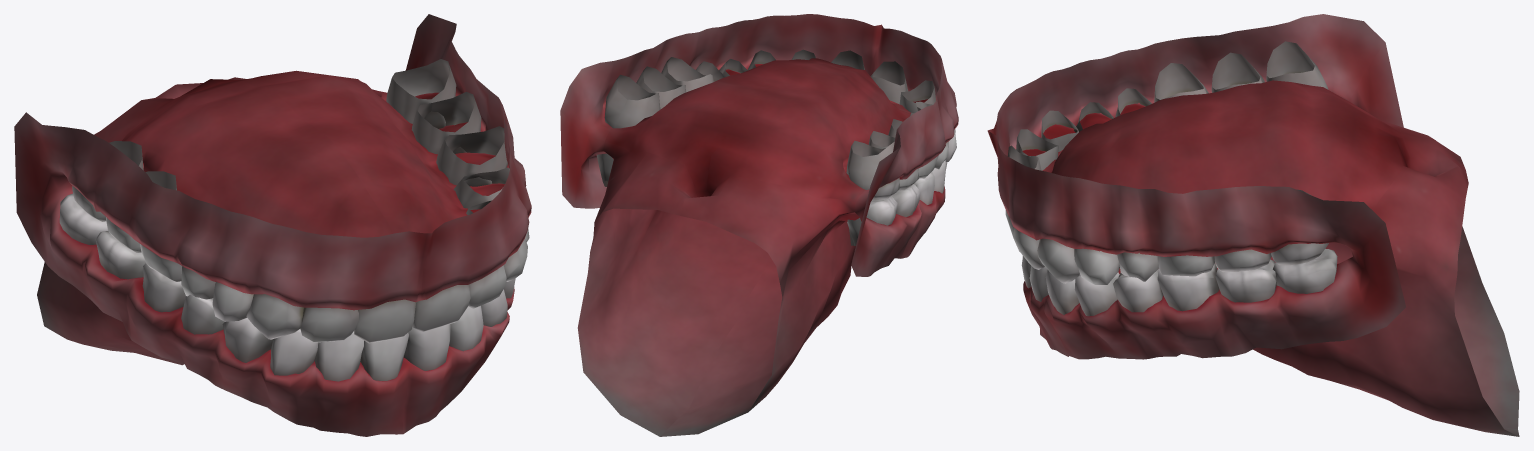
The model's file is teeth.obj.
3 renders of one model, left to right at view 1: azimuth 30°, elevation 25°; view 2: azimuth 150°, elevation 25°; view 3: azimuth 270°, elevation 25°, orthographic. The views are drawn at different scales.
Parts seen in each view (by area): view 1: teeth_baseMesh; view 2: teeth_baseMesh; view 3: teeth_baseMesh.
Part boxes in pixels (<box>): teeth_baseMesh: <box>14,14,531,436</box>; teeth_baseMesh: <box>560,14,958,436</box>; teeth_baseMesh: <box>987,14,1519,436</box>.
Bounding box in the file's own units: 0.0606 × 0.0493 × 0.0731.
